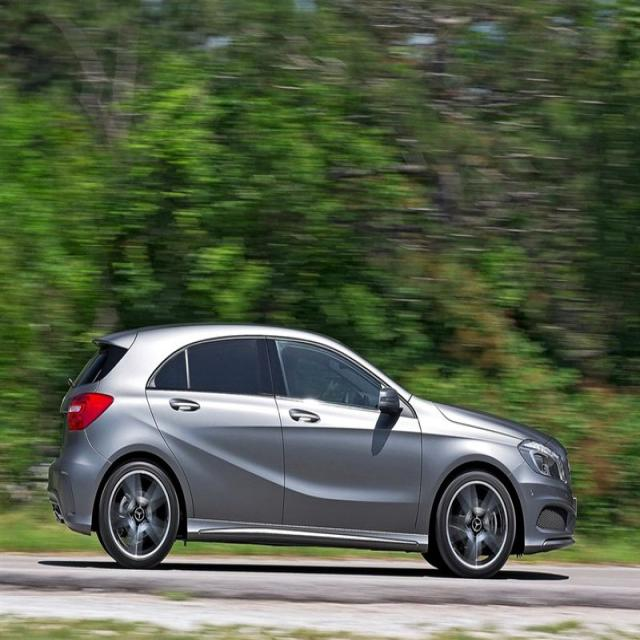back_right_side_light: (66, 389, 116, 432)
door: (146, 332, 288, 530)
front_bumper: (507, 461, 577, 554)
front_right_side_door: (263, 333, 425, 536)
front_right_side_light: (518, 436, 568, 482)
front_right_side_mirror: (376, 382, 402, 416)
rear_bumper: (51, 424, 112, 535)
wheel: (100, 462, 178, 566), (438, 470, 514, 574)
